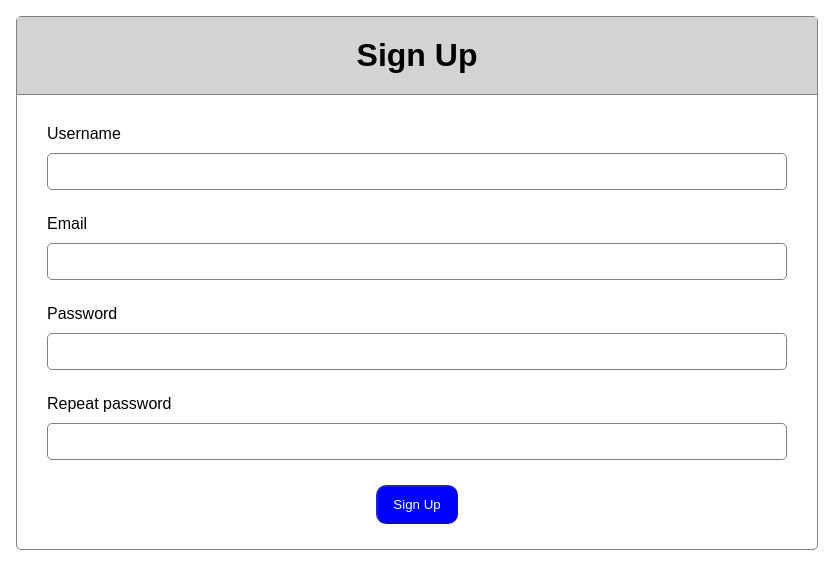
Sign Up Page › Interactions › enables the submit button when password fields have the same value and sufficient length
The image size is (835, 567).
In the password field labelled "Password": (417, 352) [47,333,787,370], type "P4ssword"
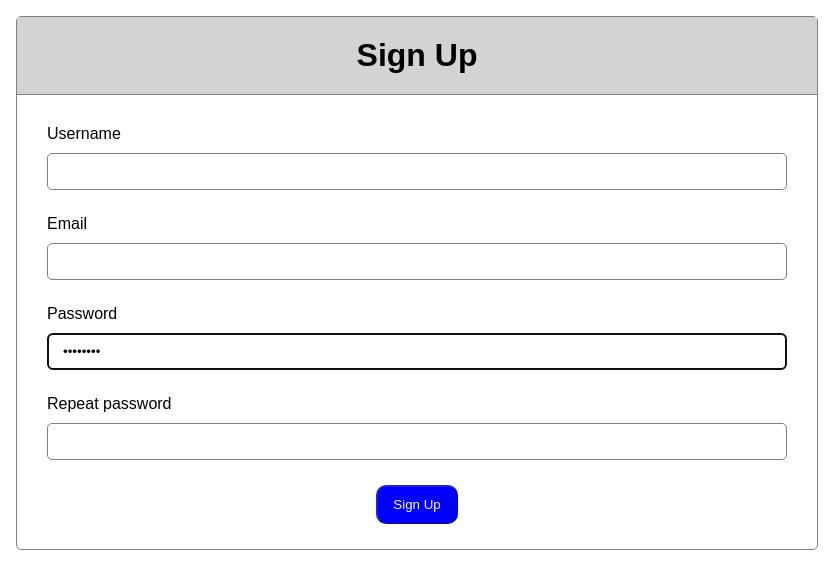
In the password field labelled "Repeat password": (417, 442) [47,423,787,460], type "P4ssword"
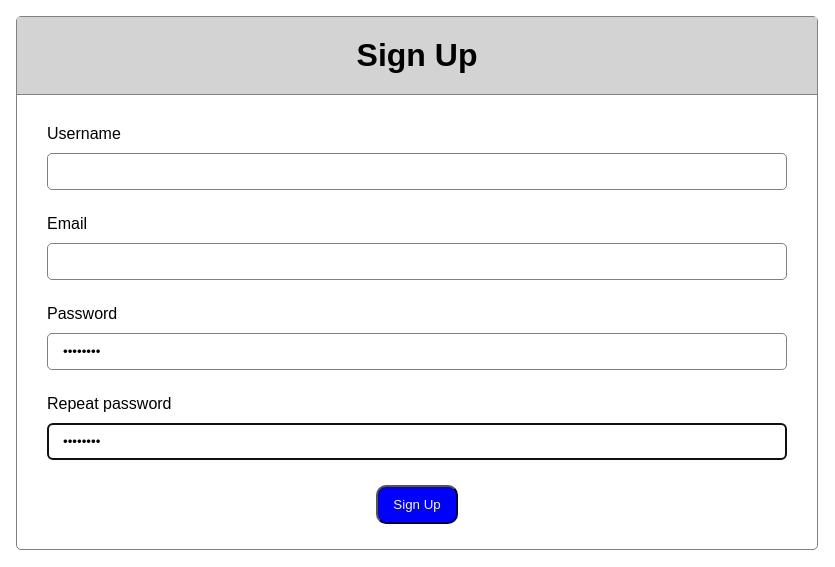
Expected: the button "Sign Up" is enabled, [376,485,458,524]
